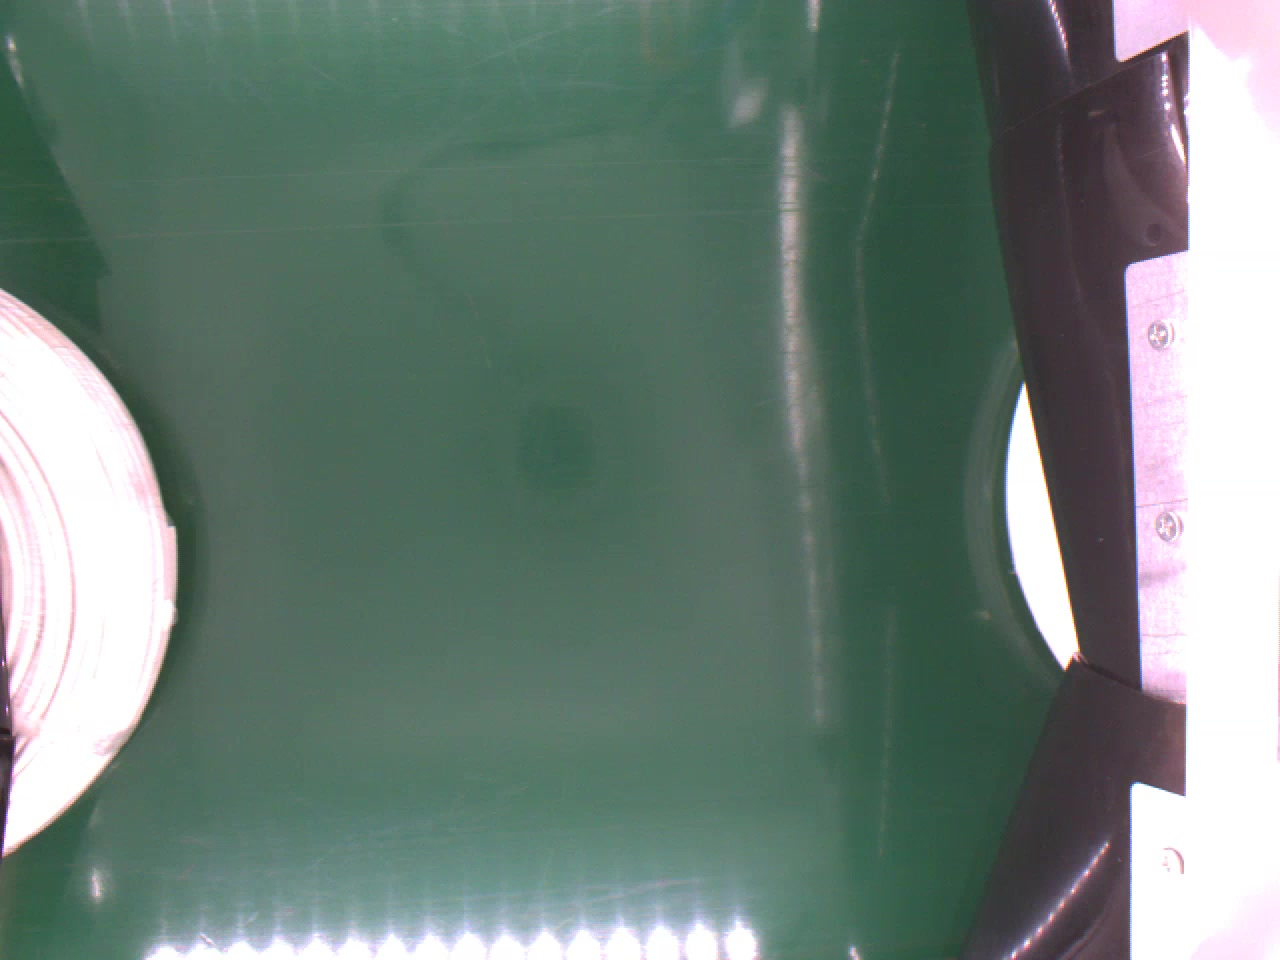white: (0, 285, 183, 853)
